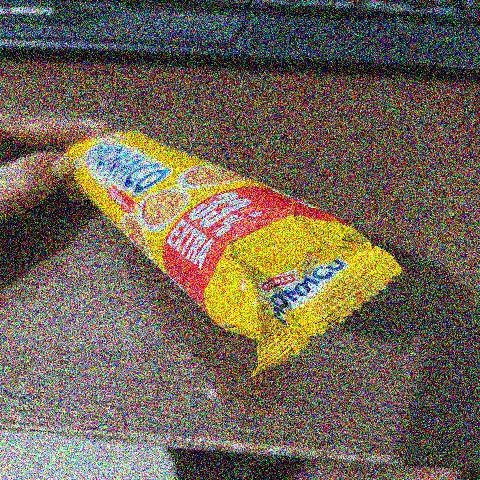monaco: (50, 82, 416, 391)
